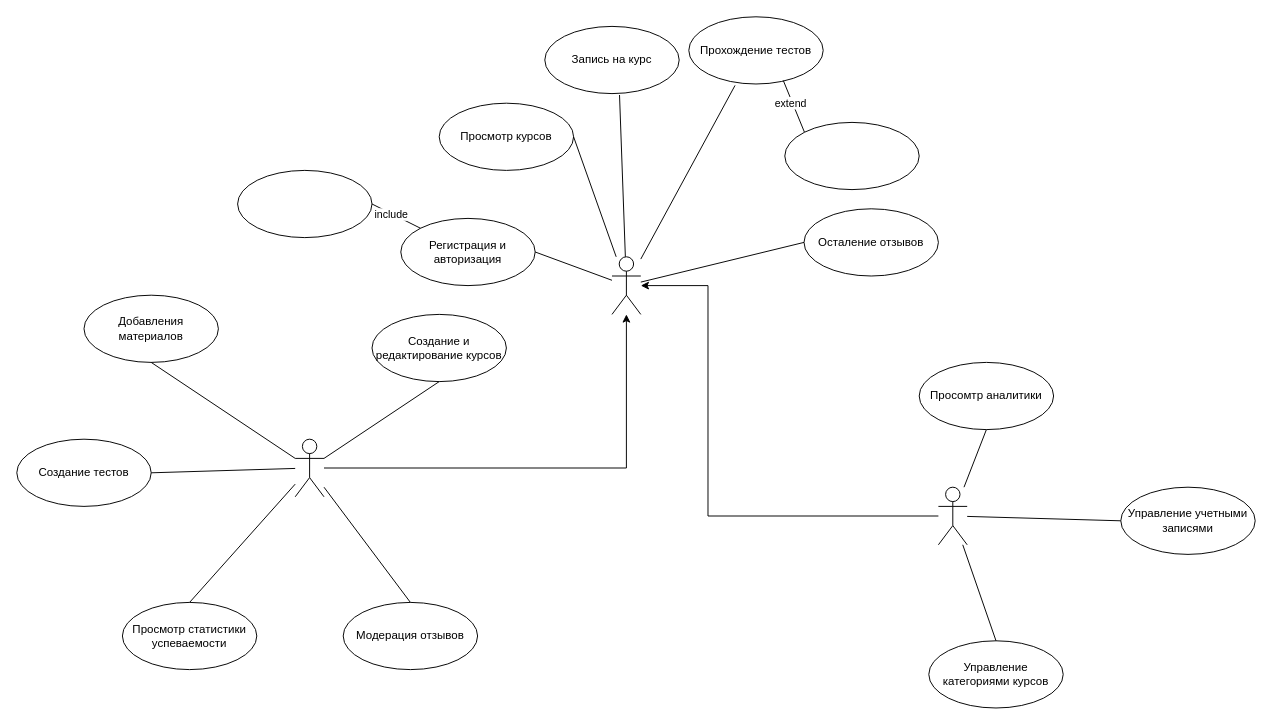
Some shapes in this 1272 by 725 pixel diagram are drawn without their labels. Each missing label, with the box of its shape:
Администратор: (937, 486, 967, 545)
Подтверждение почты: (237, 169, 372, 238)
Преподователь: (294, 438, 324, 497)
Просмотр прогресса: (784, 121, 919, 190)
СТудент: (611, 256, 641, 314)
